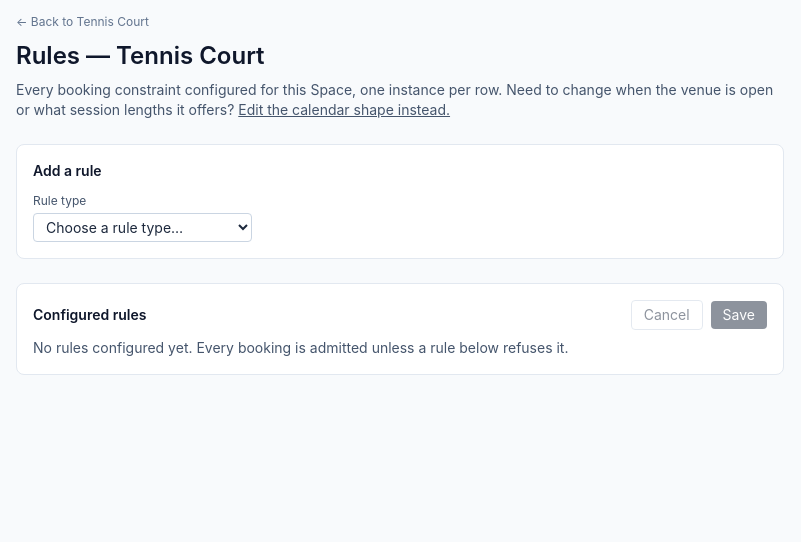
Test: SpaceRulesPage — create, pause, delete › creates a rule and shows it in the list
The width and height of the screenshot is (801, 542).
Select "Maximum booking duration" in the dropdown with test id "add-rule-type-select" at (142, 228), box x1=33 y1=213 x2=252 y2=242
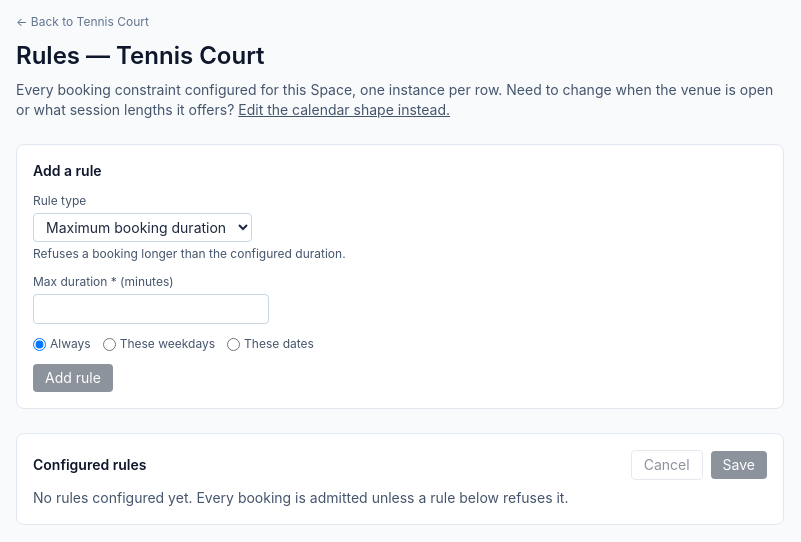
Type "90" into the number field with test id "add-rule-param-max_duration_minutes".
click(151, 309); type("90")  # box x1=33 y1=294 x2=269 y2=324
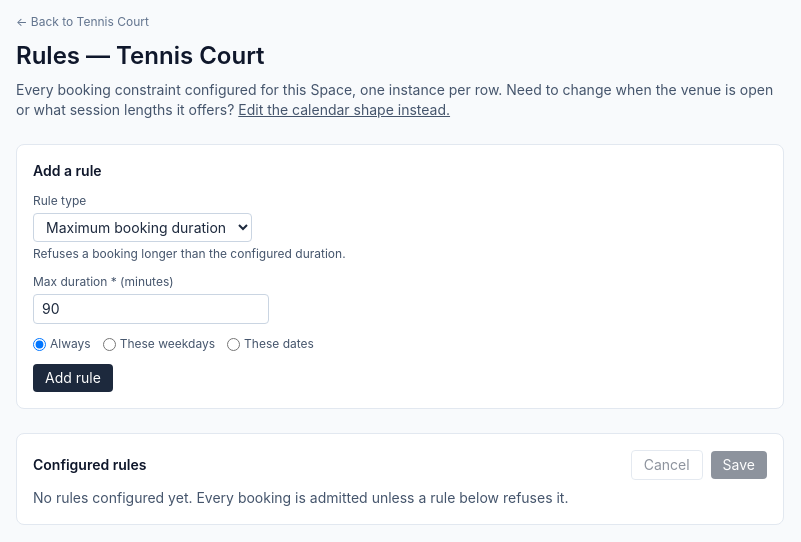
Click the button with test id "add-rule-submit".
click(73, 378)  # box x1=33 y1=364 x2=113 y2=392
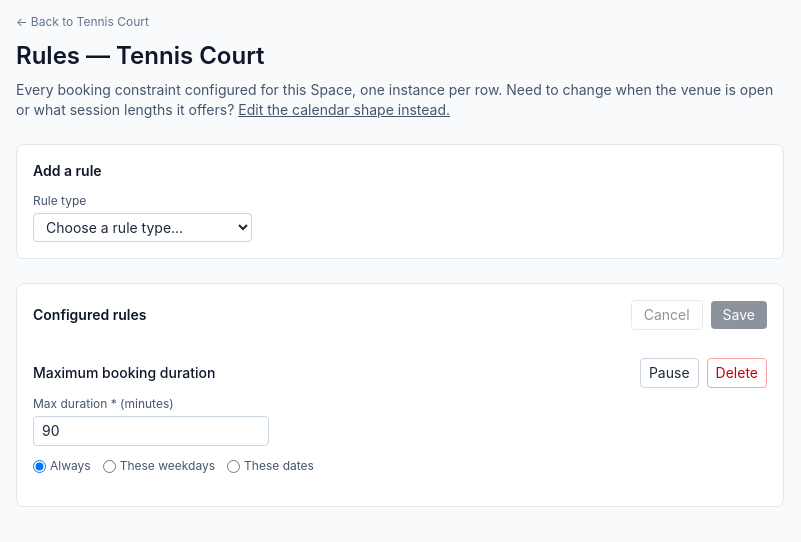
Check: the list item with test id "rule-5" is shown, box x1=33 y1=342 x2=767 y2=490
